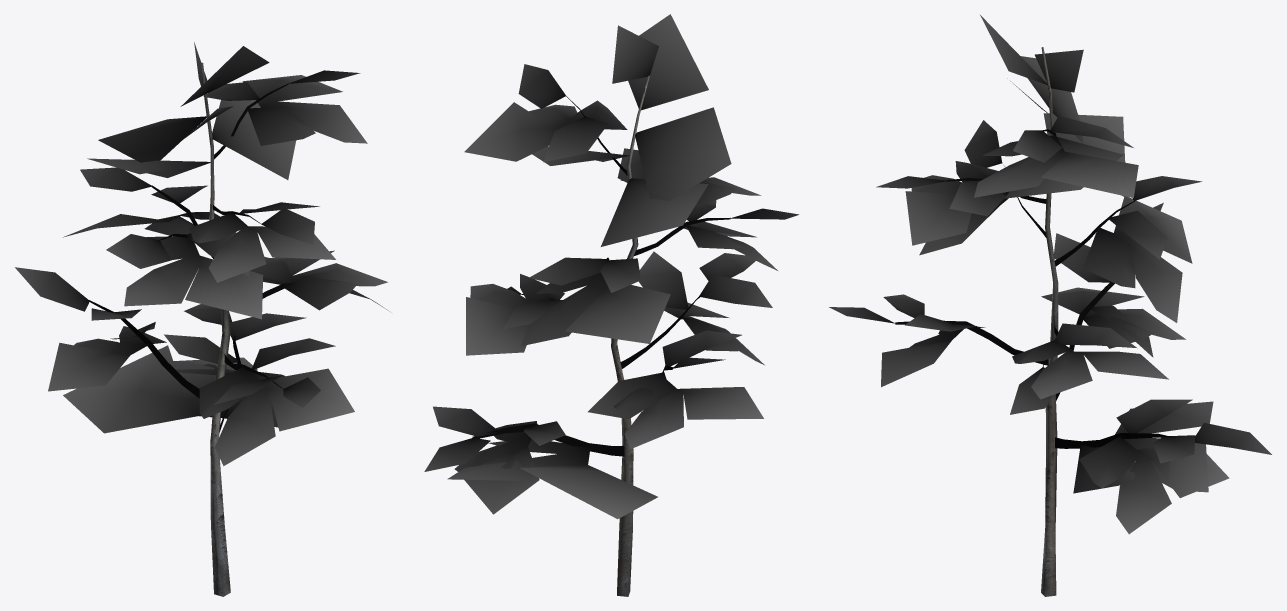
Rendered from beech_tree_02.FBX.
3 views of the same model, side by side, from view 1: azimuth 30°, elevation 25°; view 2: azimuth 150°, elevation 25°; view 3: azimuth 270°, elevation 25° (orthographic). The views are drawn at different scales.
Visible parts, largest first — view 1: beech_tree_00_A_LOD0; view 2: beech_tree_00_A_LOD0; view 3: beech_tree_00_A_LOD0.
Boxes of the visible parts, x1,y1,x2,y2 form: beech_tree_00_A_LOD0: [15, 42, 389, 596]; beech_tree_00_A_LOD0: [424, 14, 798, 596]; beech_tree_00_A_LOD0: [829, 15, 1271, 596].
Size of what is drawn, in the model's own units: 191 by 329 by 229.
